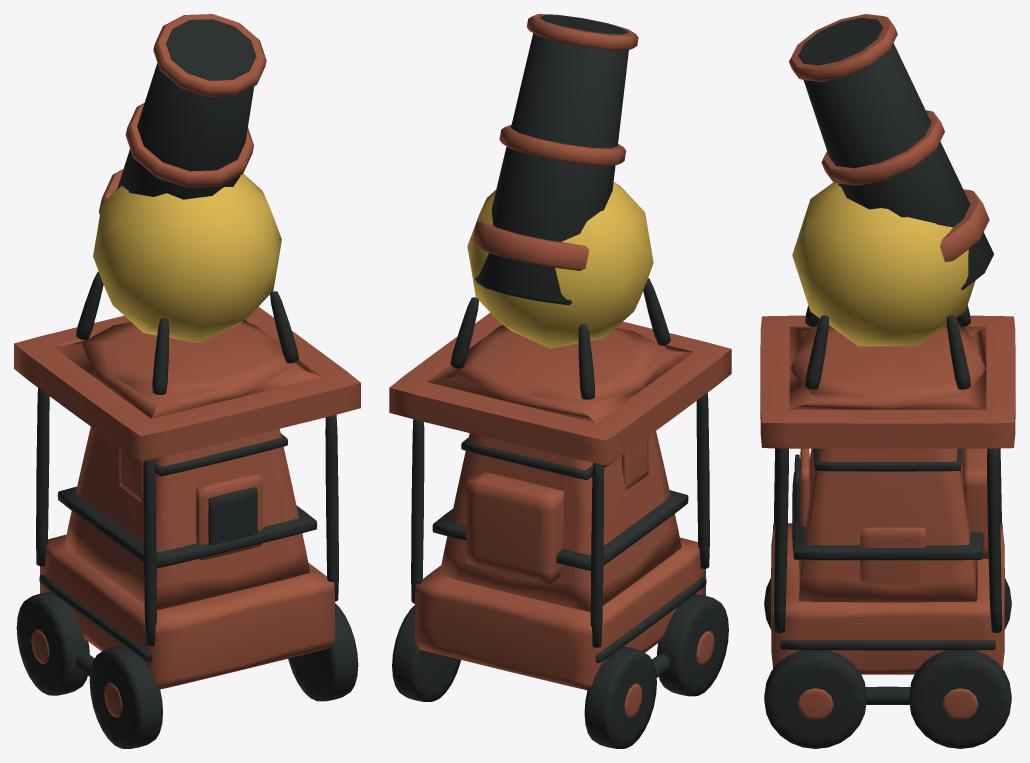
File: enemy_lobber.glb
The picture shows the model from 3 angles, left to right: view 1: azimuth 30°, elevation 25°; view 2: azimuth 150°, elevation 25°; view 3: azimuth 270°, elevation 25°; orthographic projection.
Parts seen in each view (by area): view 1: LobberBody, LobberBulb, LobberBarrel; view 2: LobberBody, LobberBarrel, LobberBulb; view 3: LobberBody, LobberBarrel, LobberBulb.
Part boxes in pixels (box(x1,y1,x2,y2)): LobberBody: box(14, 271, 360, 748); LobberBulb: box(93, 173, 281, 343); LobberBarrel: box(98, 14, 266, 214); LobberBody: box(389, 278, 731, 748); LobberBarrel: box(473, 14, 638, 305); LobberBulb: box(467, 182, 653, 348); LobberBody: box(760, 305, 1015, 748); LobberBarrel: box(789, 14, 993, 289); LobberBulb: box(792, 182, 975, 346).
Size of the model in its own units: 2.4 by 6.97 by 2.4.
